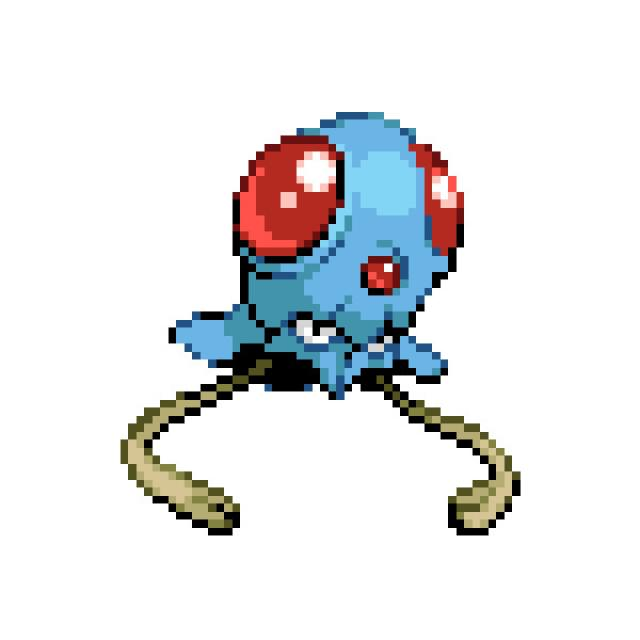Tentacool: (158, 112, 477, 485)
